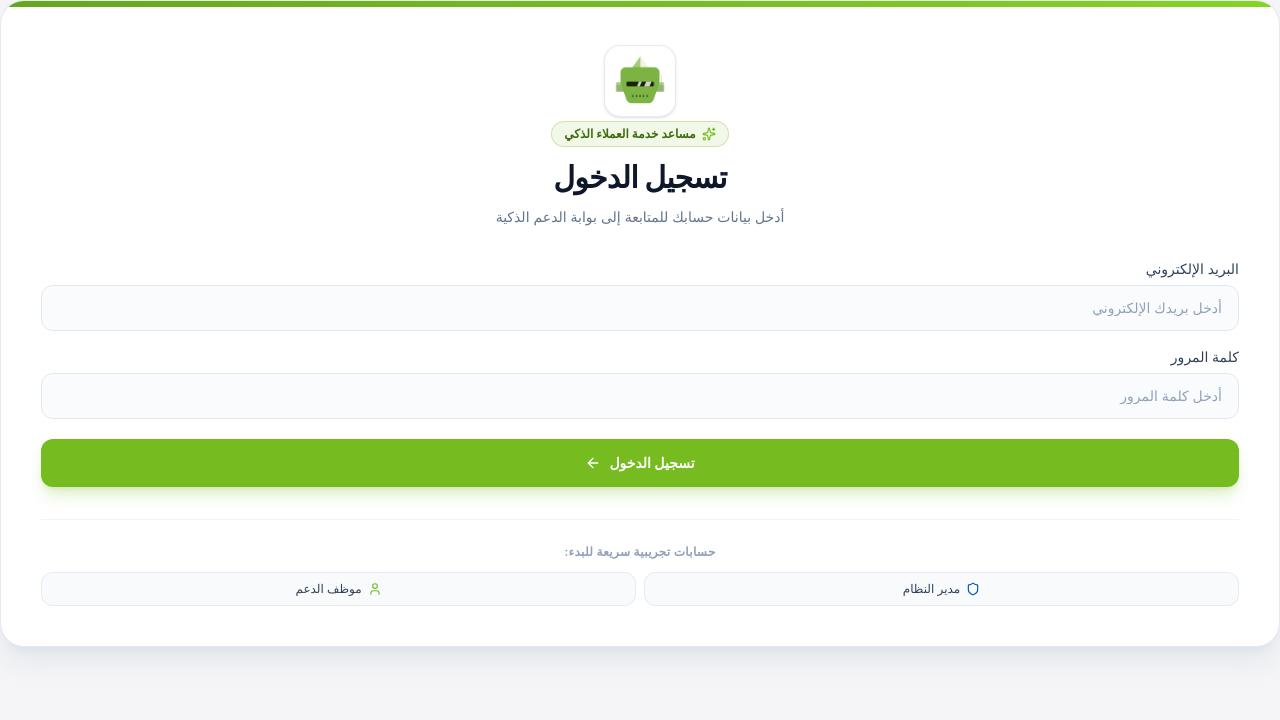
Test: LoginPage › shows Arabic alert for invalid credentials (AUTH-003)
Type "test@example.com" into the field with placeholder "أدخل بريدك الإلكتروني".
click(640, 308); type("test@example.com")  # box [41,285,1239,331]
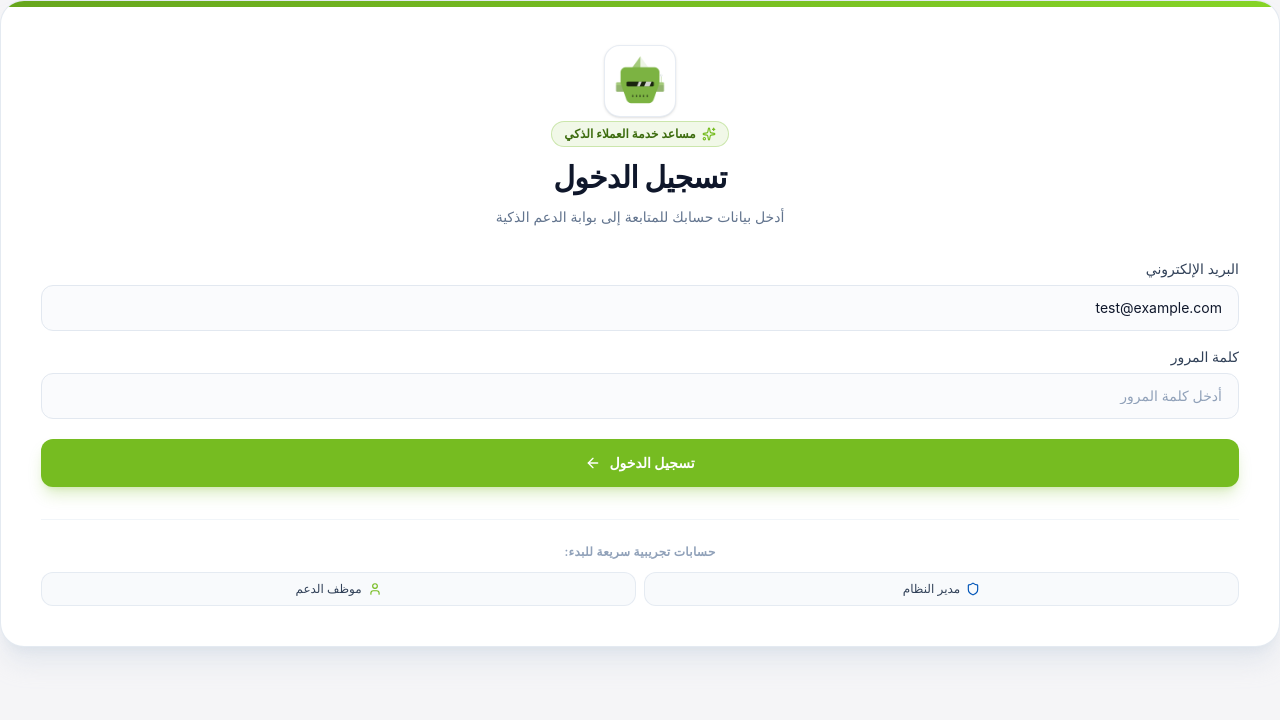
Type "WrongPassword123" into the password field with placeholder "أدخل كلمة المرور".
click(640, 396); type("WrongPassword123")  # box [41,373,1239,419]
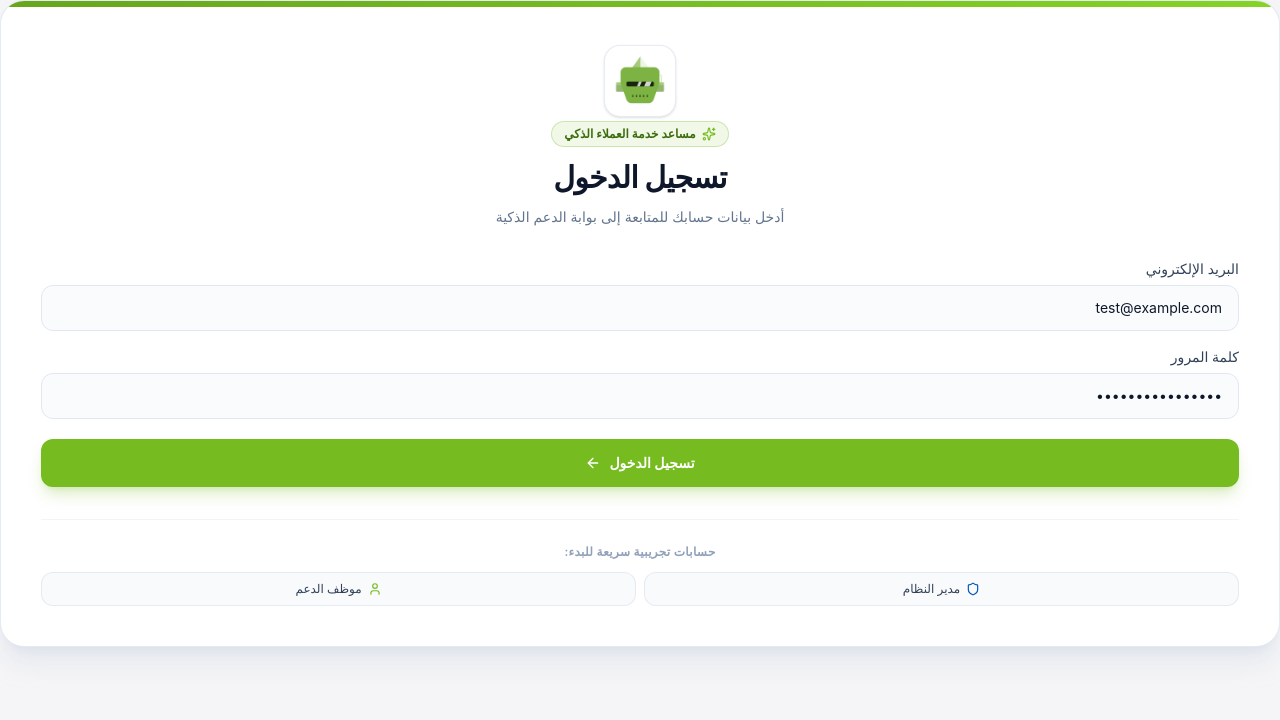
Click the button "تسجيل الدخول".
click(640, 463)  # box [41,439,1239,487]
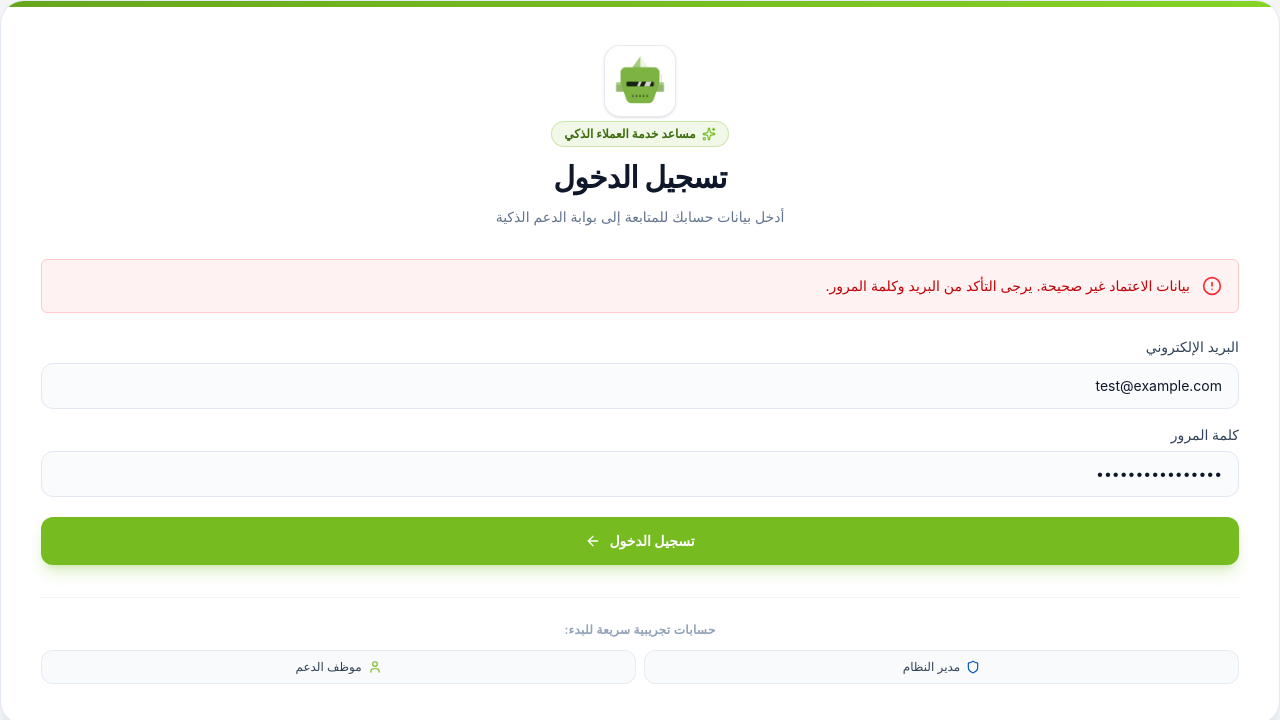
Result: the text "بيانات الاعتماد غير صحيحة. يرجى التأكد من البريد وكلمة المرور." is shown at [826,276,1190,296]
